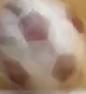Sports-Ball: (1, 1, 80, 84)
